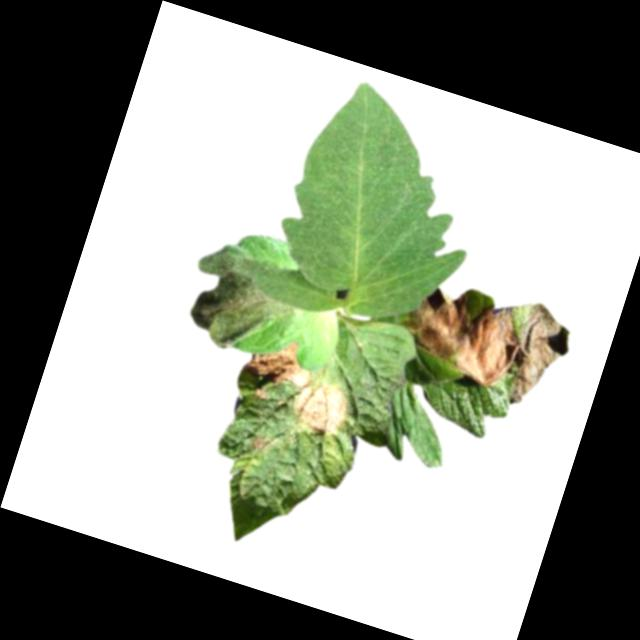Late_blight: (390, 264, 580, 415), (175, 239, 310, 368), (231, 329, 363, 441), (250, 439, 270, 455)
healthy: (229, 60, 509, 350)
